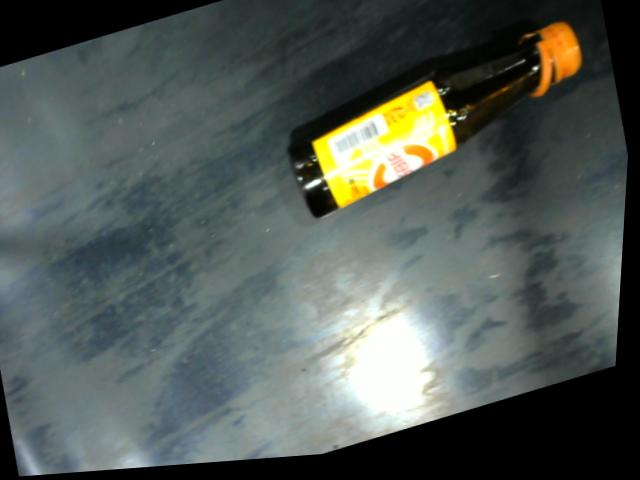glass: (276, 22, 605, 232)
